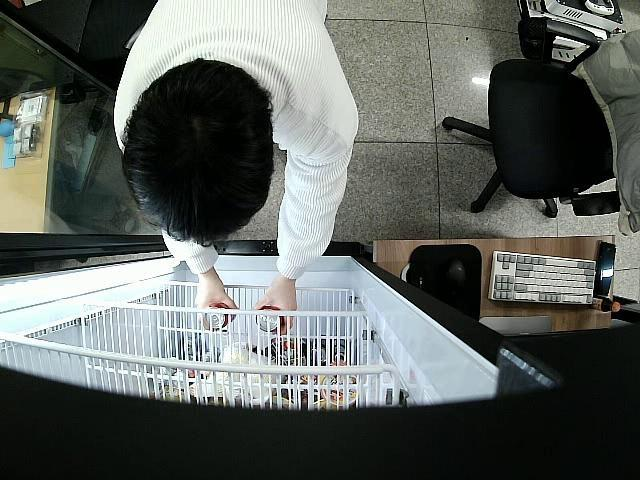11_cocaColaZero: (200, 301, 230, 330), (256, 306, 284, 333)
